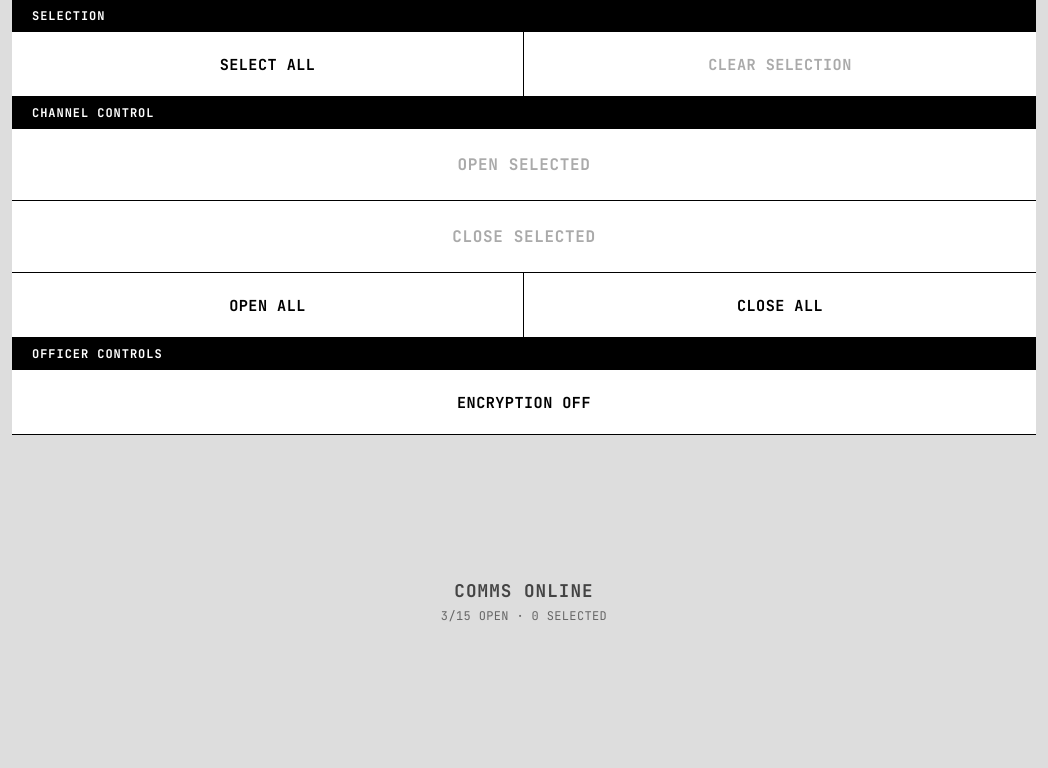
Scenario: ChannelControlPanel › toggles encryption
This screenshot has width=1048, height=768.
Click the button "Encryption Off": (524, 402) [12,370,1036,434]
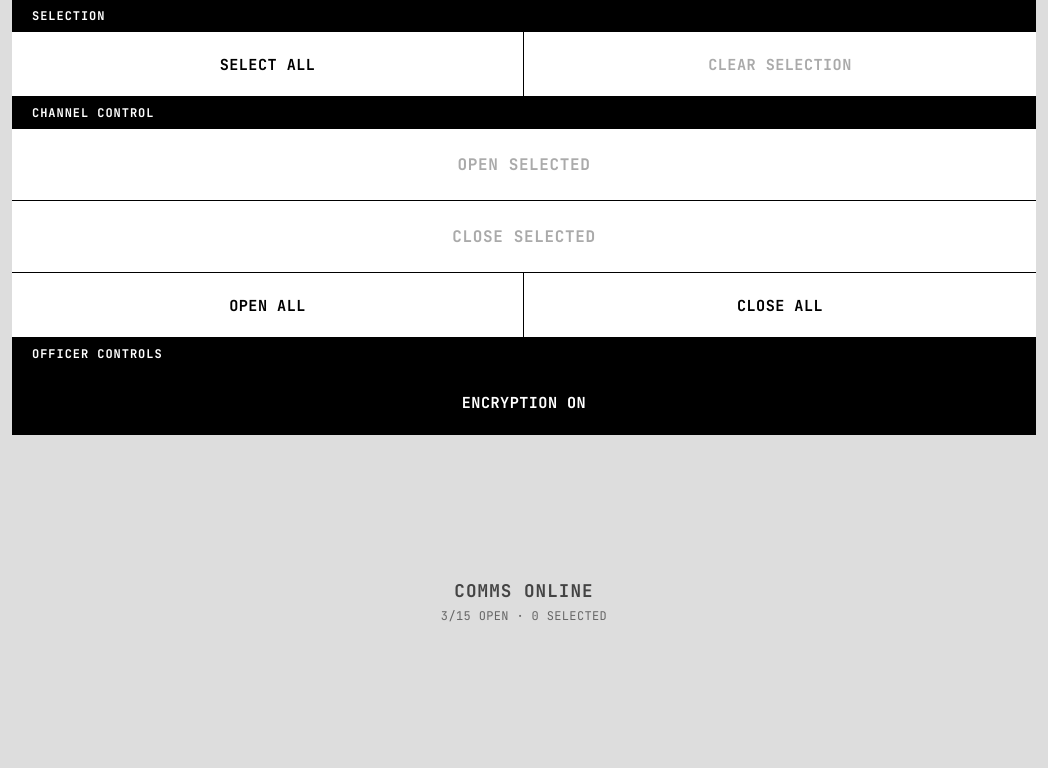
Now the button "Encryption On" is shown, box [12,370,1036,434]
